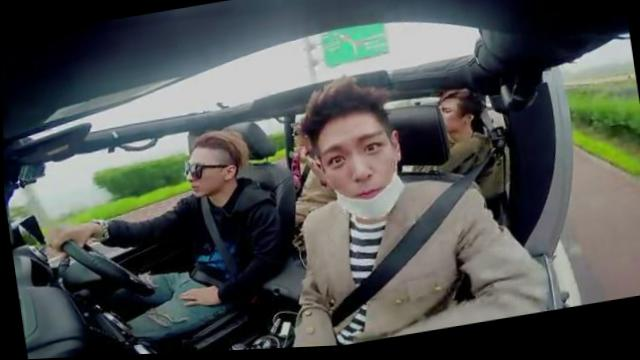NONE: (183, 152, 230, 203), (436, 106, 463, 140)
WRONG: (313, 126, 410, 225)
